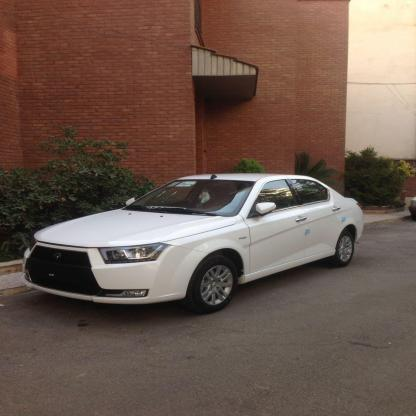Car: (13, 170, 372, 321)
